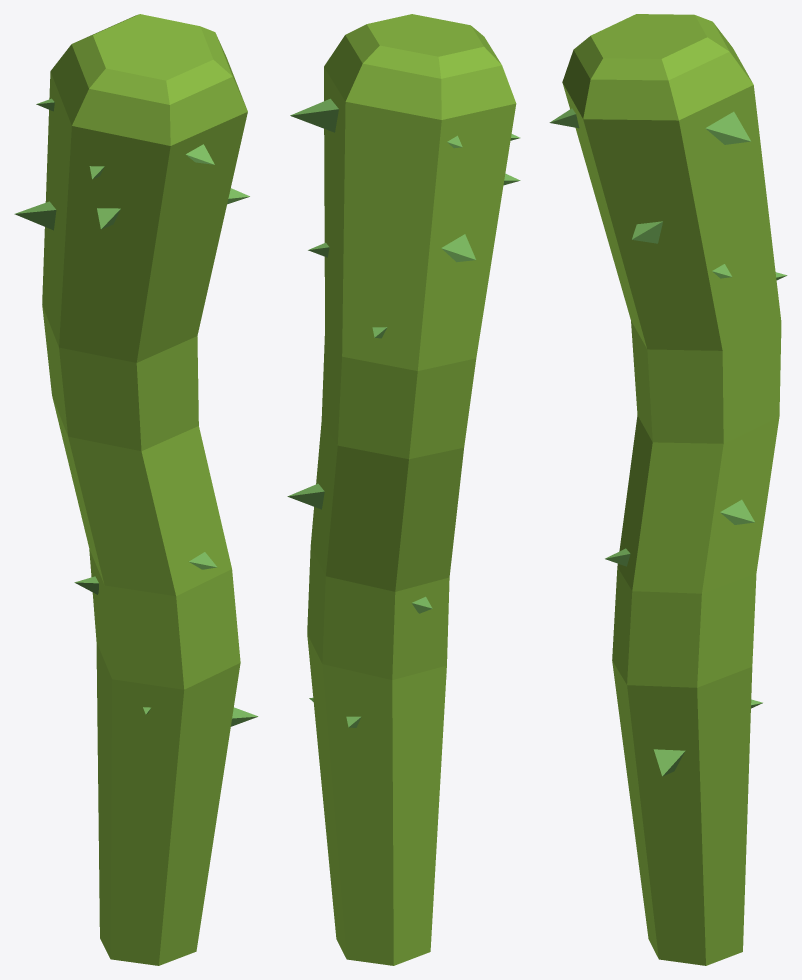
File: model_tree_cactus_single.fbx
3 renders of one model, left to right at view 1: azimuth 30°, elevation 25°; view 2: azimuth 150°, elevation 25°; view 3: azimuth 270°, elevation 25°, orthographic. The views are drawn at different scales.
Visible parts, largest first — view 1: model_tree_cactus_single; view 2: model_tree_cactus_single; view 3: model_tree_cactus_single.
Part boxes in pixels (box(x1,y1,x2,y2)): model_tree_cactus_single: box(14, 14, 258, 965); model_tree_cactus_single: box(287, 14, 520, 965); model_tree_cactus_single: box(549, 14, 787, 965).
Bounding box in the file's own units: 56.19 × 239 × 56.97.
1 material, 1 textured.
